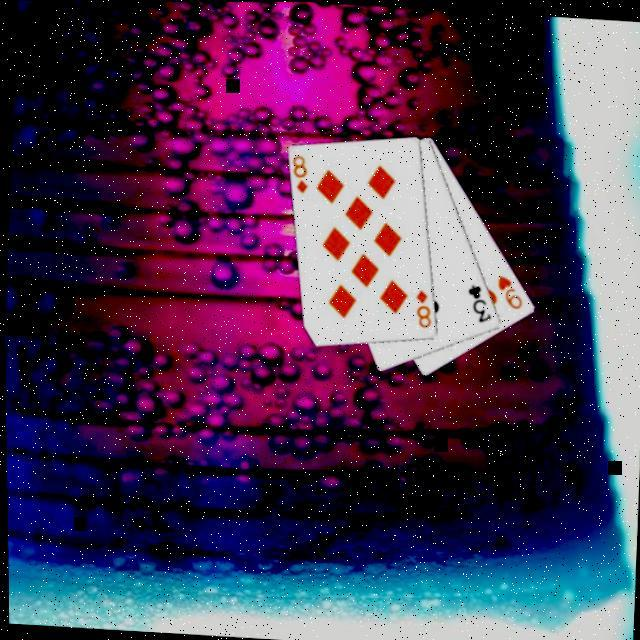3C: (462, 282, 496, 326)
8D: (411, 286, 436, 332), (289, 152, 312, 197)
9H: (493, 272, 527, 314)
